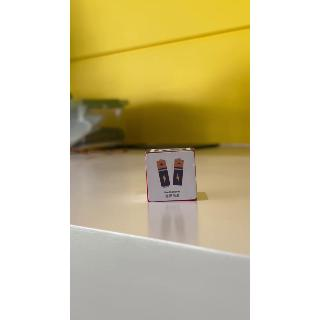Used_Battery: (147, 151, 200, 203)
